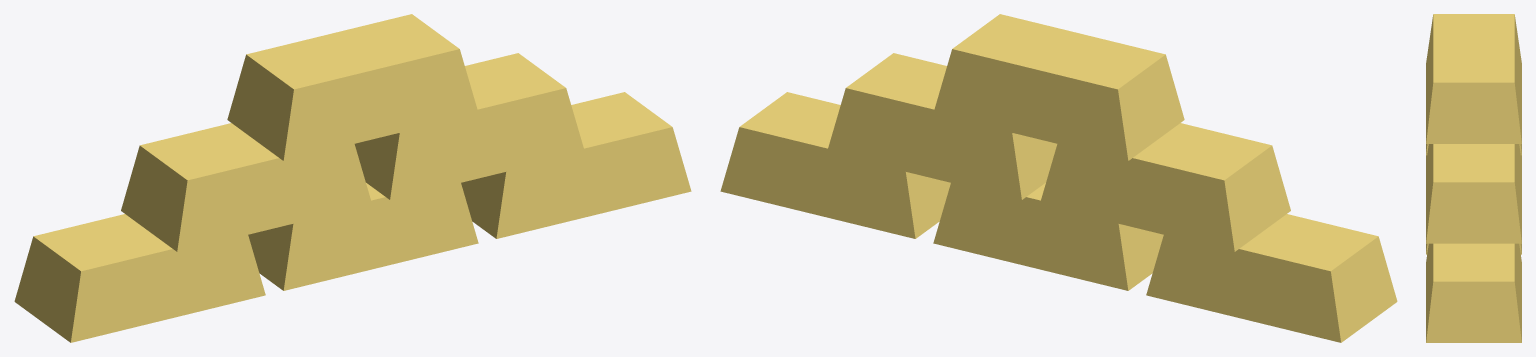
The model's file is SM_Gold_Bars.glb.
The picture shows the model from 3 angles, left to right: view 1: azimuth 30°, elevation 25°; view 2: azimuth 150°, elevation 25°; view 3: azimuth 270°, elevation 25°; orthographic projection. The views are drawn at different scales.
Visible parts, largest first — view 1: SM_Gold_Bars; view 2: SM_Gold_Bars; view 3: SM_Gold_Bars.
Part boxes in pixels (x1,y1,x2,y2): SM_Gold_Bars: (14, 14, 691, 342); SM_Gold_Bars: (720, 14, 1397, 342); SM_Gold_Bars: (1426, 14, 1521, 342).
Size of the model in its own units: 0.7 by 0.21 by 0.11.
